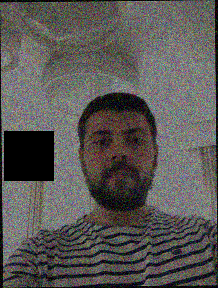without_mask: (85, 122, 153, 213)
